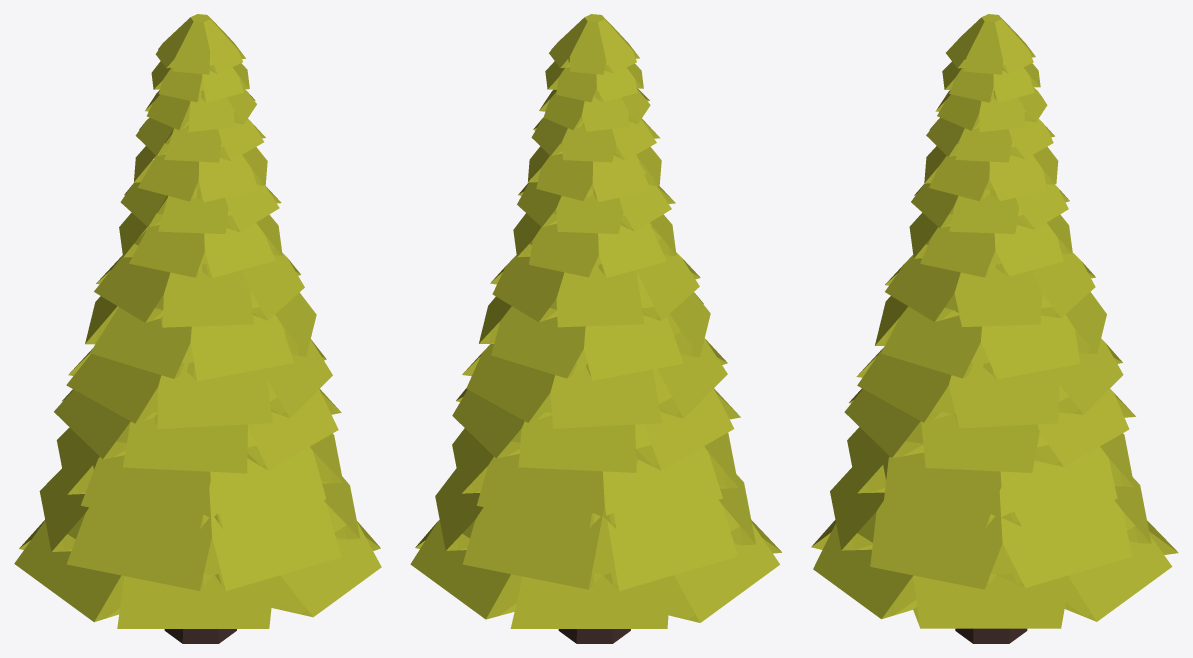
Rendered from Tree_25.fbx.
3 views of the same model, side by side, from view 1: azimuth 30°, elevation 25°; view 2: azimuth 150°, elevation 25°; view 3: azimuth 270°, elevation 25° (orthographic).
Parts seen in each view (by area): view 1: Tree_25; view 2: Tree_25; view 3: Tree_25.
Part boxes in pixels (box(x1,y1,x2,y2)): Tree_25: box(14, 14, 381, 643); Tree_25: box(410, 14, 781, 643); Tree_25: box(811, 14, 1178, 643).
Size of the model in its own units: 447 by 890 by 485.
